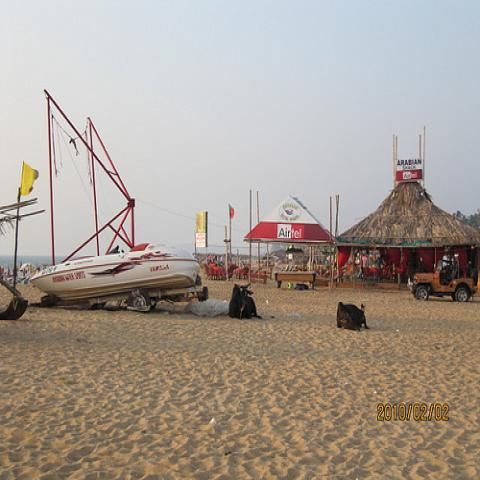truck: (404, 260, 479, 302)
